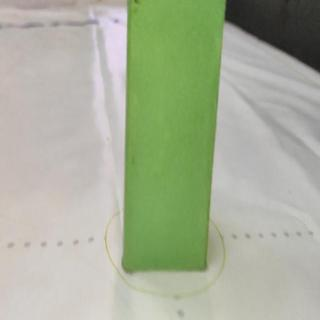greenbox: (123, 0, 222, 272)
